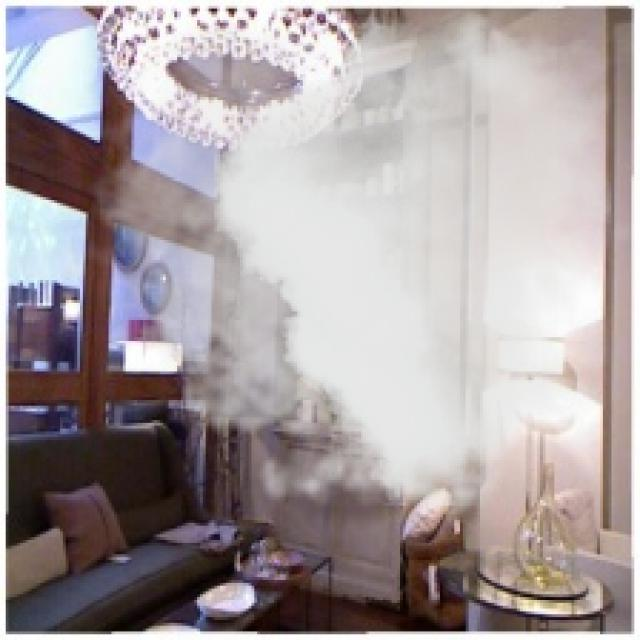smoke: (74, 9, 612, 537)
